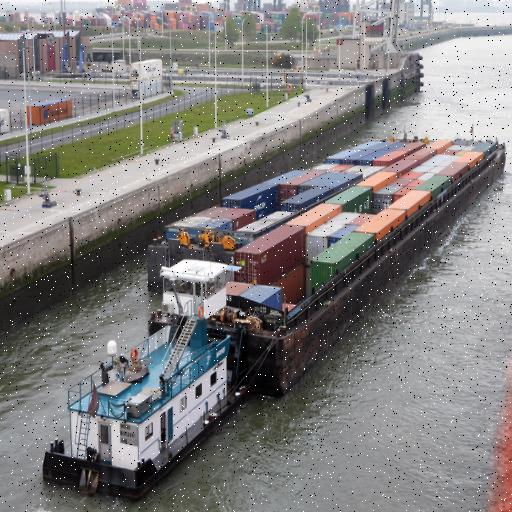tugboat: (40, 255, 259, 507)
